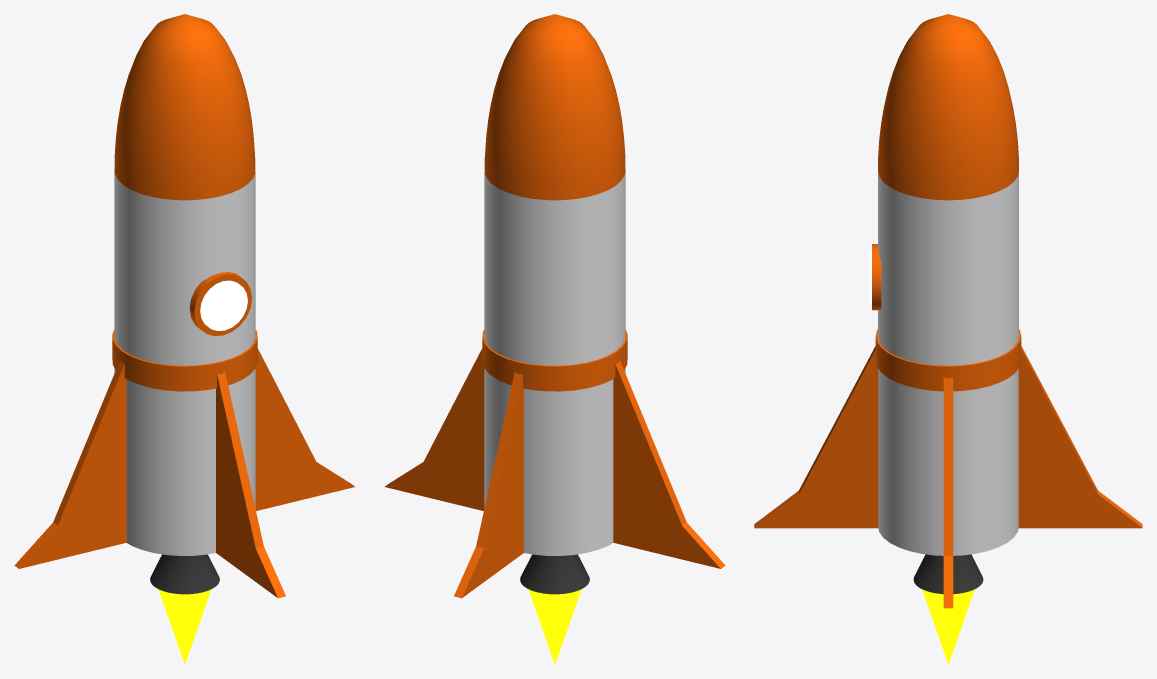
Rendered from Rocket_09_BigFin.fbx.
3 views of the same model, side by side, from view 1: azimuth 30°, elevation 25°; view 2: azimuth 150°, elevation 25°; view 3: azimuth 270°, elevation 25° (orthographic).
Parts seen in each view (by area): view 1: R09_Body, R09_Nose, R09_Fin_2, R09_Fin_4, R09_Fin_3, R09_Band_1, R09_Nozzle_1, R09_Flame_1, R09_Window_1, R09_WindowFrame_1; view 2: R09_Body, R09_Nose, R09_Fin_2, R09_Fin_4, R09_Fin_1, R09_Band_1, R09_Nozzle_1, R09_Flame_1; view 3: R09_Body, R09_Nose, R09_Fin_1, R09_Fin_3, R09_Band_1, R09_Fin_4, R09_Nozzle_1, R09_Flame_1, R09_WindowFrame_1.
Part boxes in pixels (x1,y1,x2,y2): R09_Body: [114, 169, 255, 555]; R09_Nose: [114, 14, 255, 200]; R09_Fin_2: [14, 360, 126, 568]; R09_Fin_4: [255, 348, 354, 510]; R09_Fin_3: [216, 372, 285, 598]; R09_Band_1: [112, 329, 257, 391]; R09_Nozzle_1: [150, 554, 219, 594]; R09_Flame_1: [158, 589, 211, 664]; R09_Window_1: [200, 280, 247, 330]; R09_WindowFrame_1: [189, 271, 251, 335]; R09_Body: [484, 169, 625, 555]; R09_Nose: [484, 14, 625, 200]; R09_Fin_2: [613, 360, 725, 568]; R09_Fin_4: [385, 348, 484, 510]; R09_Fin_1: [454, 372, 523, 598]; R09_Band_1: [482, 329, 627, 391]; R09_Nozzle_1: [520, 554, 589, 594]; R09_Flame_1: [528, 589, 581, 664]; R09_Body: [878, 172, 1018, 555]; R09_Nose: [878, 14, 1018, 200]; R09_Fin_1: [1018, 346, 1142, 528]; R09_Fin_3: [754, 346, 878, 528]; R09_Band_1: [875, 329, 1021, 391]; R09_Fin_4: [943, 377, 953, 608]; R09_Nozzle_1: [913, 554, 983, 594]; R09_Flame_1: [922, 589, 974, 664]; R09_WindowFrame_1: [872, 244, 881, 310].
Bounding box in the file's own units: 4.95 × 9.15 × 4.95.
